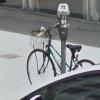Bicycle: (18, 11, 96, 83)
